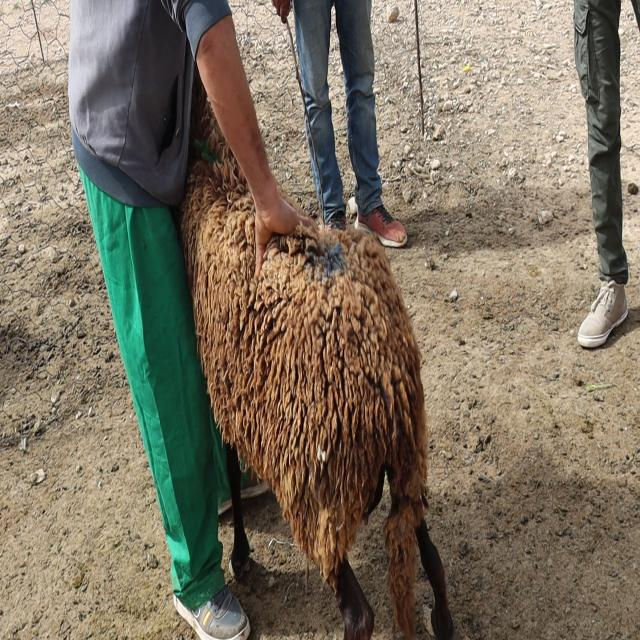Score_1: (176, 68, 453, 639)
